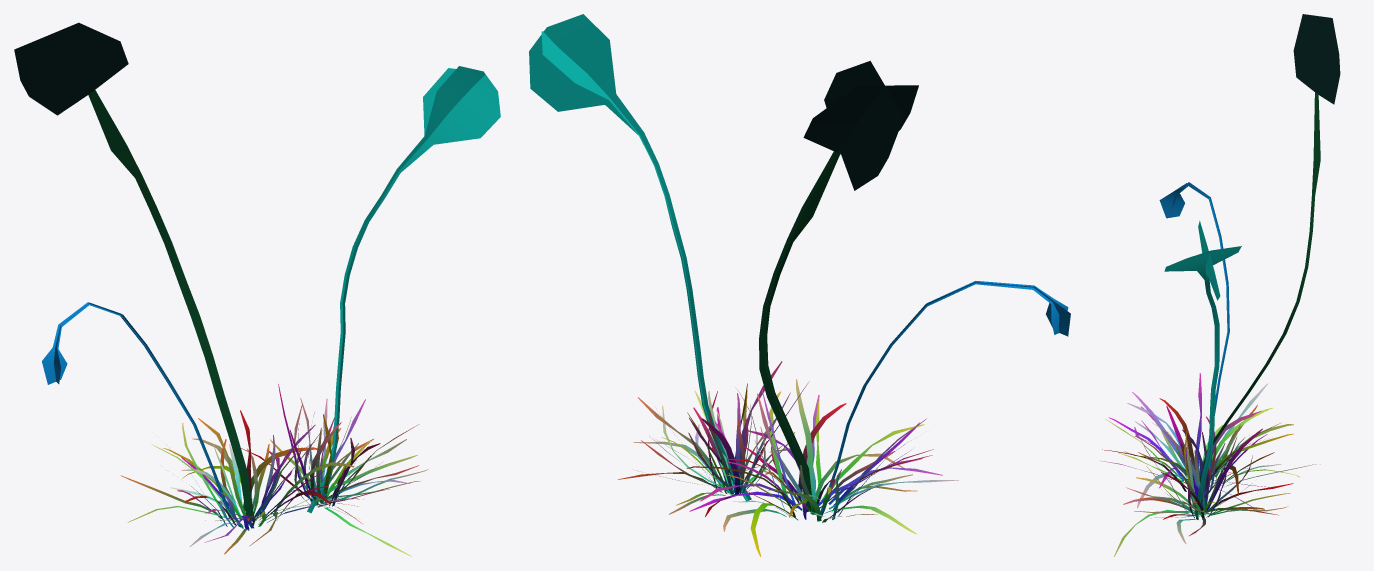
The model's file is Sea_Thrift_vkbgaihha_Mid_vkbgaihha_VarG_LOD0.fbx.
The picture shows the model from 3 angles, left to right: view 1: azimuth 30°, elevation 25°; view 2: azimuth 150°, elevation 25°; view 3: azimuth 270°, elevation 25°; orthographic projection. The views are drawn at different scales.
Parts seen in each view (by area): view 1: _9ge4_VarG_LOD1; view 2: _9ge4_VarG_LOD1; view 3: _9ge4_VarG_LOD1.
Boxes of the visible parts, x1,y1,x2,y2 form: _9ge4_VarG_LOD1: (14, 22, 500, 556); _9ge4_VarG_LOD1: (529, 14, 1070, 556); _9ge4_VarG_LOD1: (1100, 14, 1340, 556).
Bounding box in the file's own units: 13.36 × 13.76 × 7.27.
